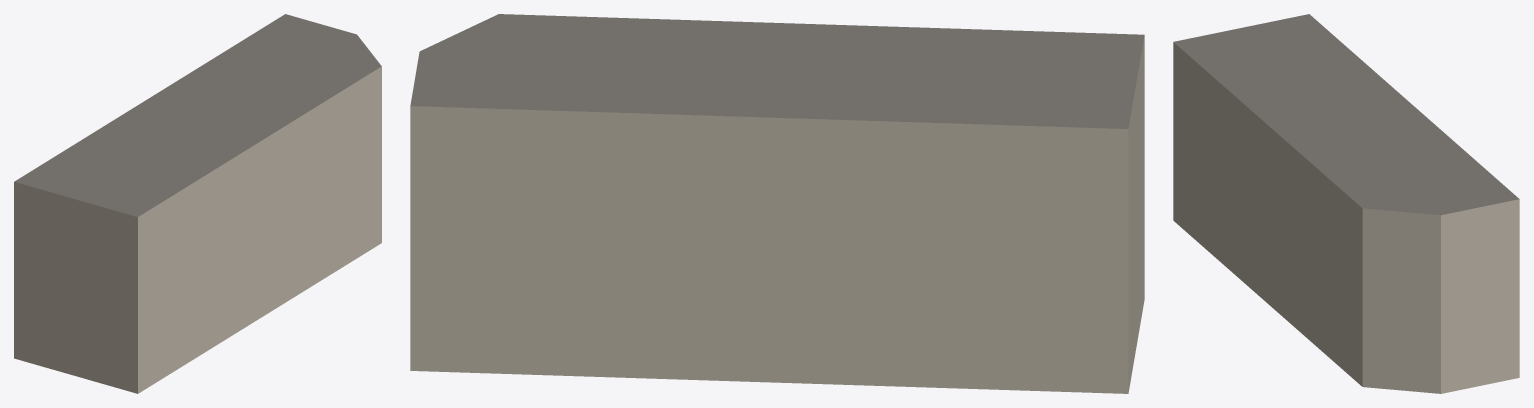
3 renders of one model, left to right at view 1: azimuth 30°, elevation 25°; view 2: azimuth 150°, elevation 25°; view 3: azimuth 270°, elevation 25°, orthographic. The views are drawn at different scales.
Visible parts, largest first — view 1: HP-w1286965214; view 2: HP-w1286965214; view 3: HP-w1286965214.
Part boxes in pixels (bbox=[...]): HP-w1286965214: bbox=[14, 14, 381, 393]; HP-w1286965214: bbox=[410, 14, 1144, 393]; HP-w1286965214: bbox=[1173, 14, 1519, 393].
Size of the model in its own units: 43.48 by 18 by 31.62.
